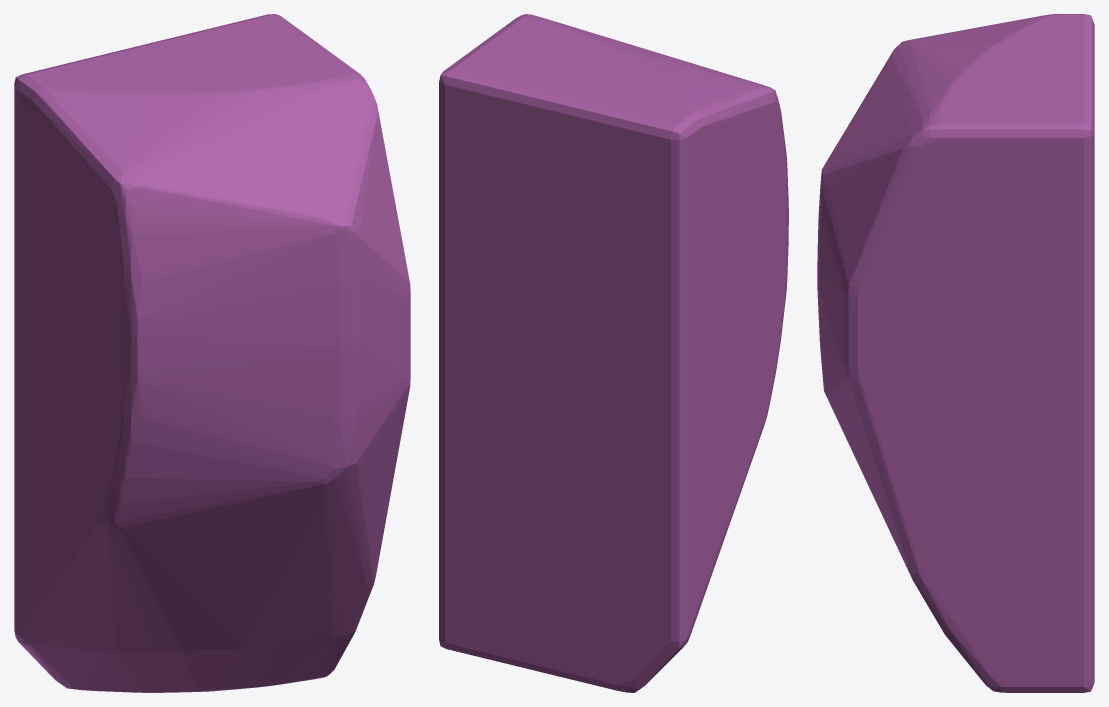
The model's file is left_hip_roll_link_part_7.obj.
The picture shows the model from 3 angles, left to right: view 1: azimuth 30°, elevation 25°; view 2: azimuth 150°, elevation 25°; view 3: azimuth 270°, elevation 25°; orthographic projection. The views are drawn at different scales.
Size of the model in its own units: 0.0336 by 0.0752 by 0.0333.
